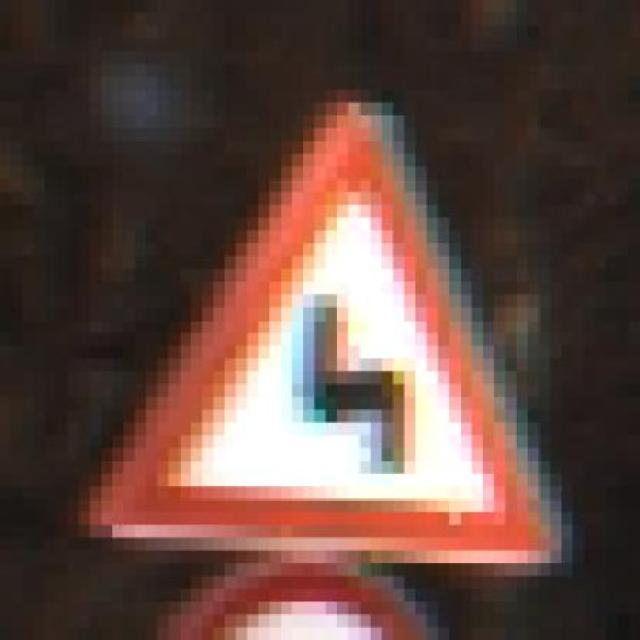Left Zig Zag Traffic: (67, 64, 573, 576)
